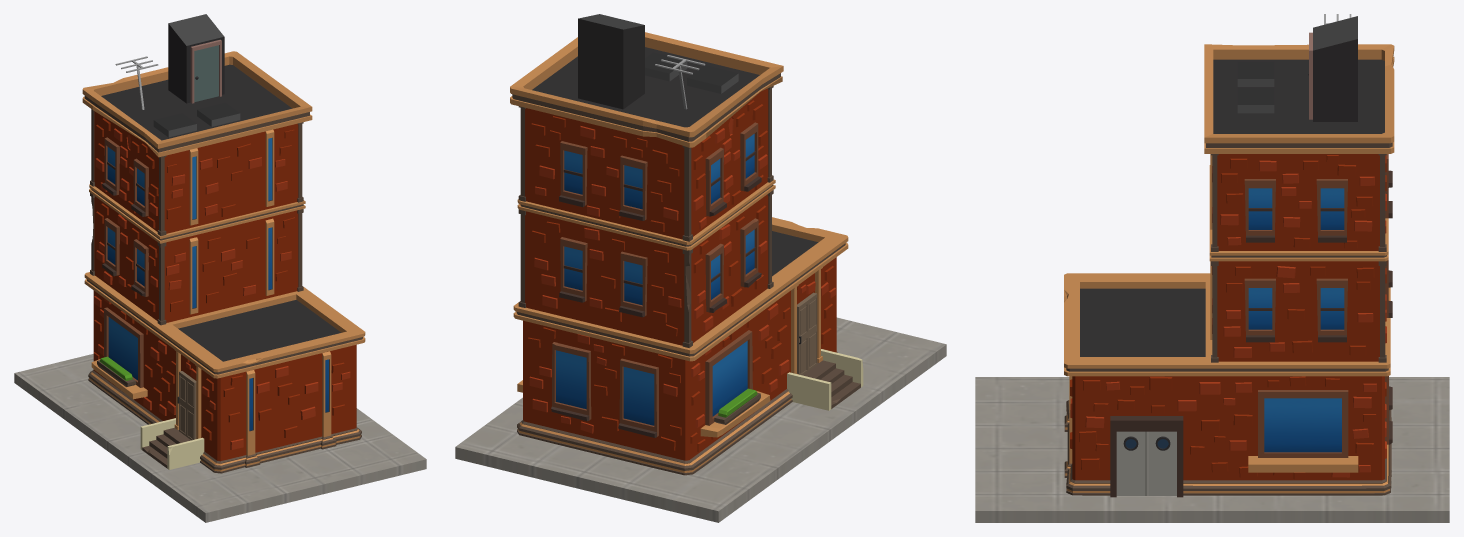
Rendered from House_04.fbx.
3 renders of one model, left to right at view 1: azimuth 30°, elevation 25°; view 2: azimuth 150°, elevation 25°; view 3: azimuth 270°, elevation 25°, orthographic. The views are drawn at different scales.
Visible parts, largest first — view 1: House_04; view 2: House_04; view 3: House_04.
Boxes of the visible parts, x1=… form: House_04: x1=14, y1=14, x2=426, y2=522; House_04: x1=455, y1=14, x2=946, y2=522; House_04: x1=975, y1=14, x2=1449, y2=522.
Size of the model in its own units: 1200 by 1858 by 1800.
